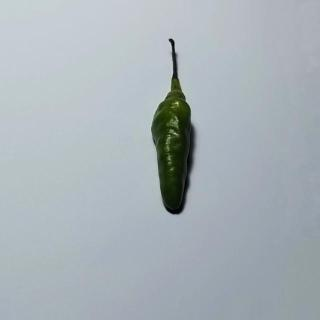Cabai Hijau: (145, 35, 205, 217)
